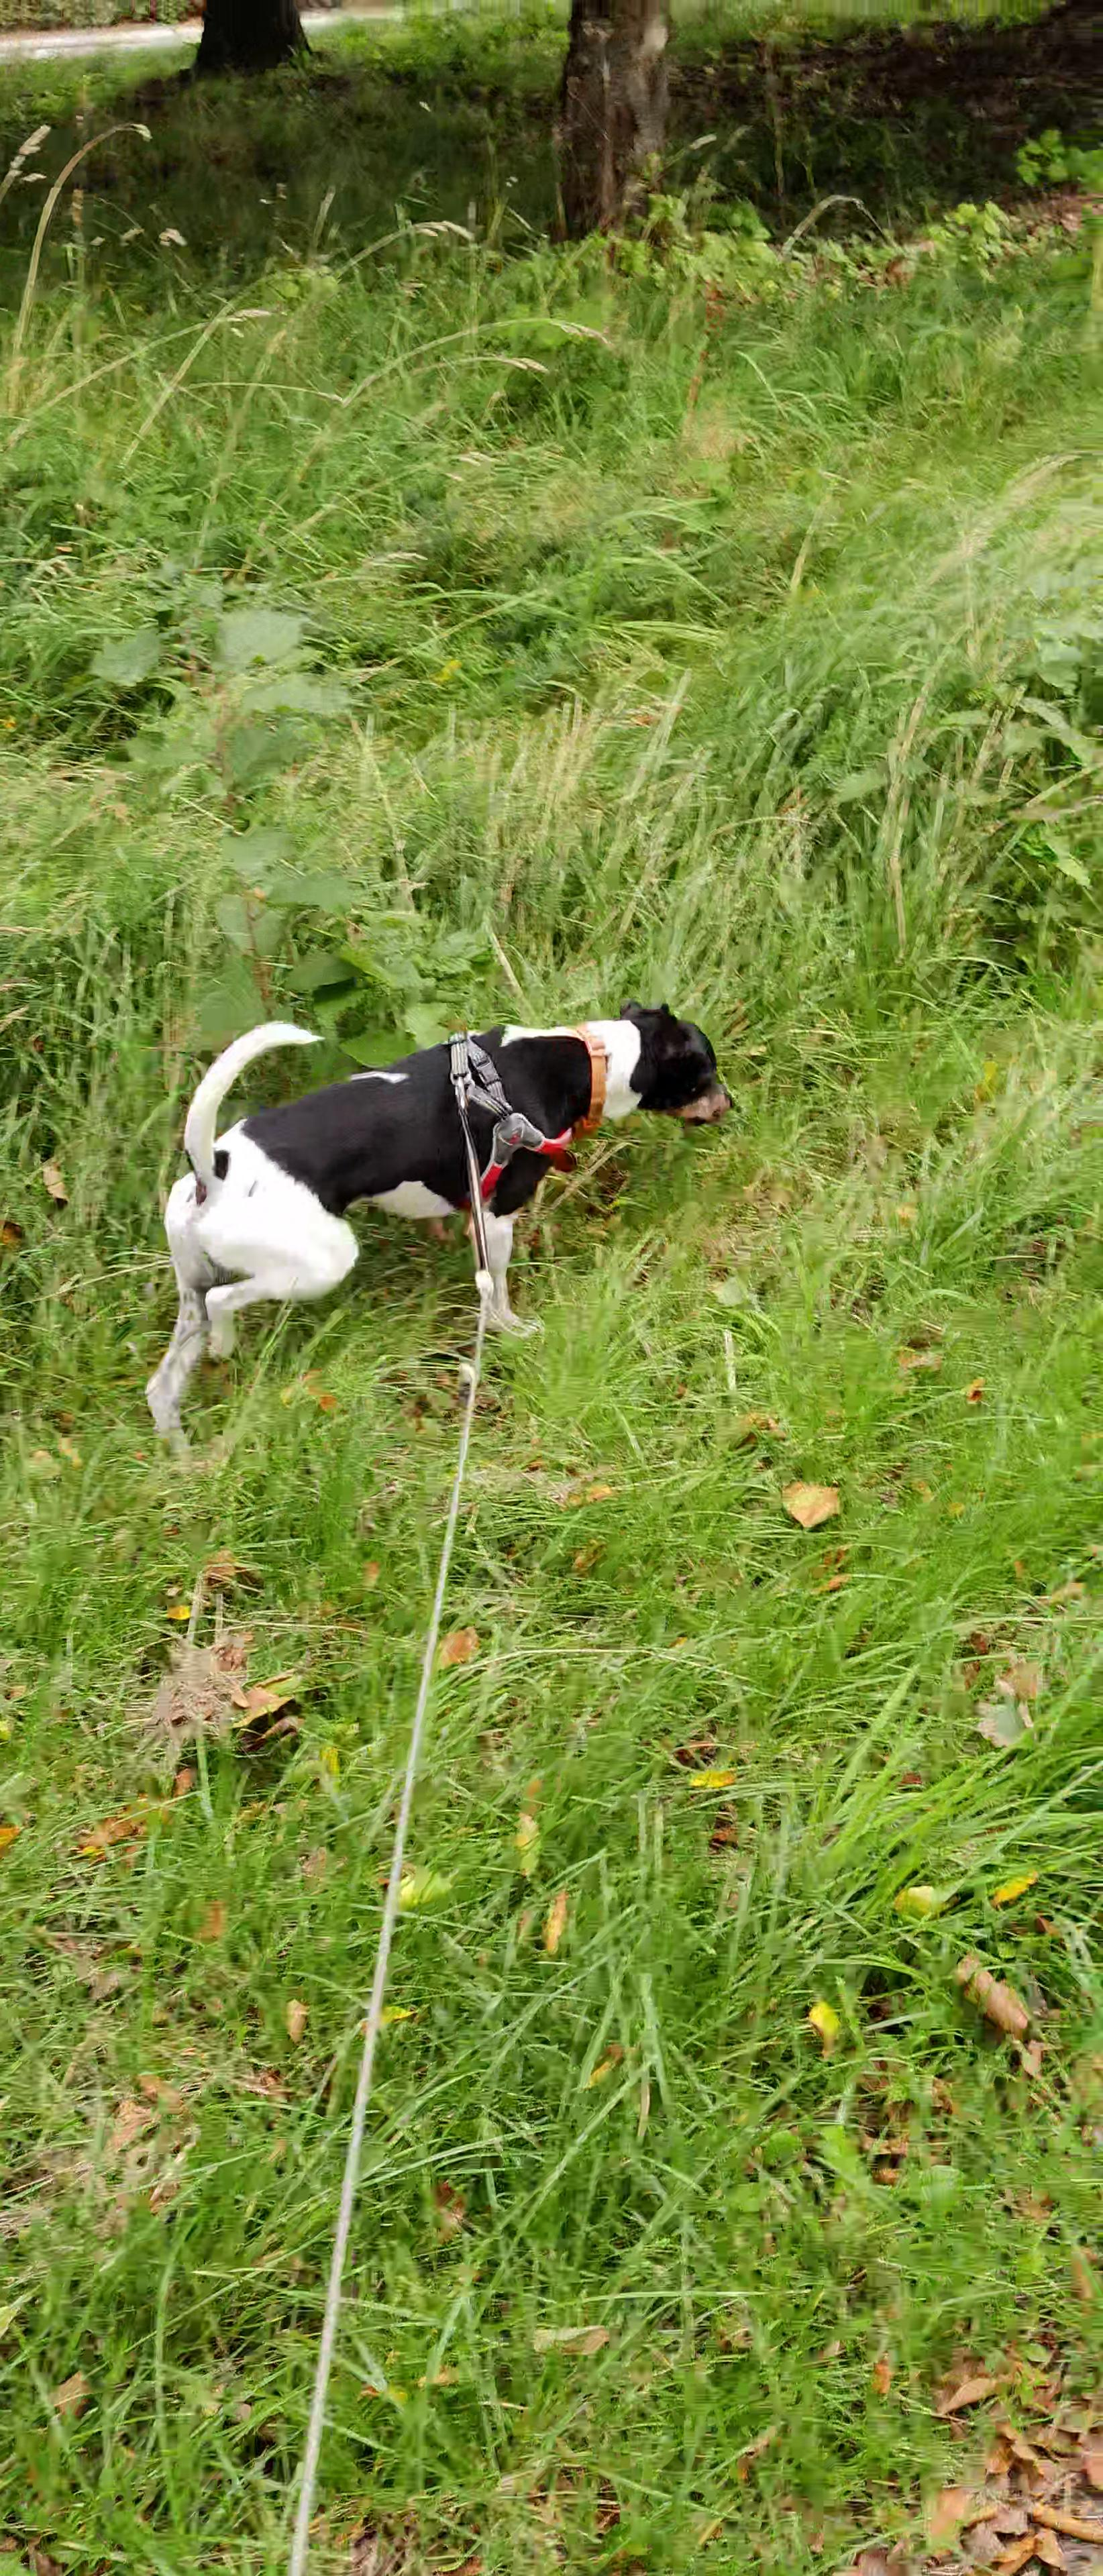Dog: (141, 996, 740, 1457)
